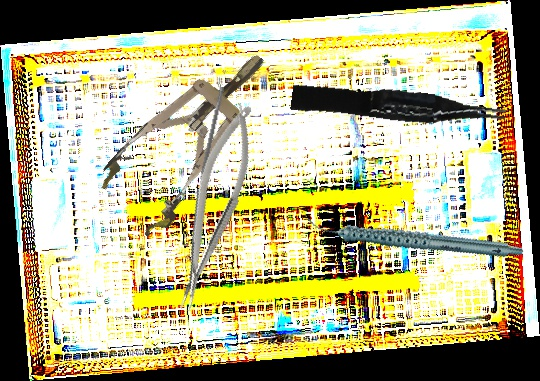Handpiece: (303, 173, 526, 302)
Needle Holder: (158, 99, 269, 315)
Spatula Surgical: (192, 85, 225, 196)
Speculum: (88, 28, 295, 244)
Tissue Forceps: (290, 74, 507, 140)
